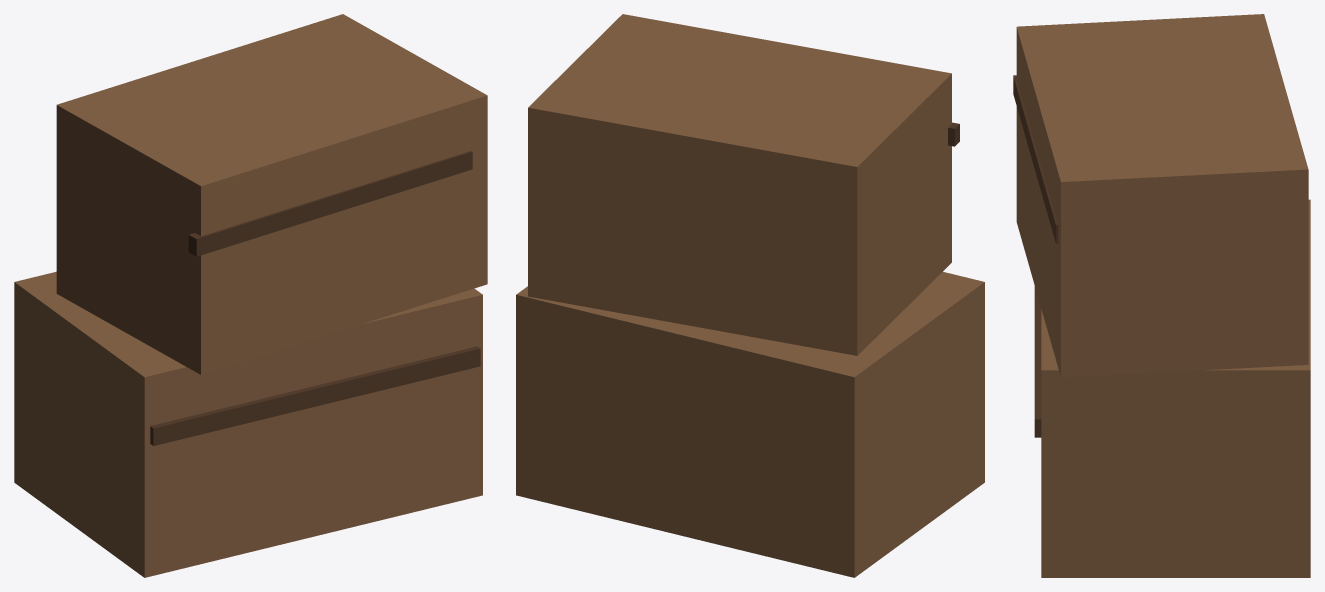
File: PRP_P1_Crate_Stack_A.obj
The picture shows the model from 3 angles, left to right: view 1: azimuth 30°, elevation 25°; view 2: azimuth 150°, elevation 25°; view 3: azimuth 270°, elevation 25°; orthographic projection. The views are drawn at different scales.
Parts seen in each view (by area): view 1: crate_upper, crate_lower, slat_gap_l, slat_gap_u; view 2: crate_upper, crate_lower; view 3: crate_upper, crate_lower, slat_gap_u, slat_gap_l.
Boxes of the visible parts, <box> form: crate_upper: <box>56,14,487,374</box>; crate_lower: <box>14,271,482,577</box>; slat_gap_l: <box>150,346,480,445</box>; slat_gap_u: <box>188,151,472,256</box>; crate_upper: <box>528,14,951,355</box>; crate_lower: <box>516,272,984,577</box>; crate_upper: <box>1016,14,1308,377</box>; crate_lower: <box>1041,199,1310,577</box>; slat_gap_u: <box>1013,75,1058,243</box>; slat_gap_l: <box>1034,286,1041,437</box>.
Bounding box in the file's own units: 0.6252 × 0.66 × 0.4417.
